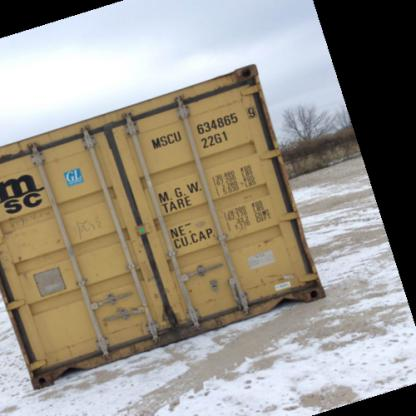Damage: (5, 200, 51, 224), (246, 270, 291, 293), (229, 62, 261, 94), (154, 300, 181, 335), (183, 283, 216, 307), (74, 209, 102, 236), (12, 249, 30, 282), (248, 231, 275, 249), (242, 186, 260, 208)
